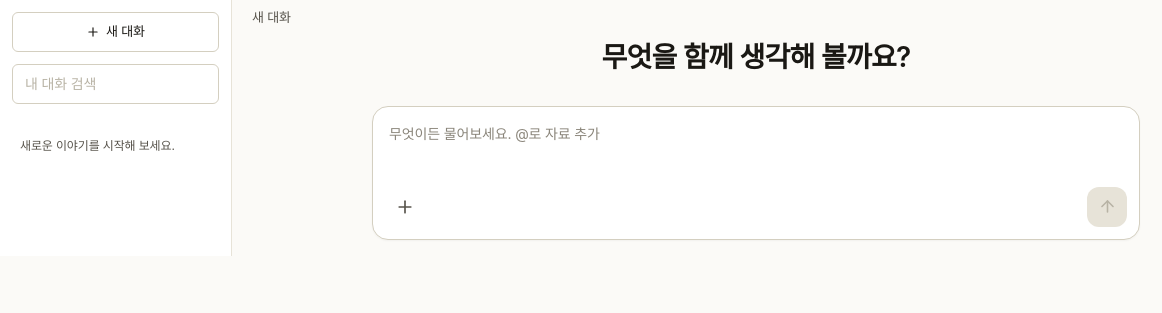
Test: 자유 채팅 입력창 › 자료 선택 후 사용자가 선택한 남은 문장을 늦은 프레임이 덮지 않는다
Type "앞 문장 @첫 번째" into the text box named "연구 질문" at coordinates (756, 150), box left=385, top=118, right=1127, bottom=182
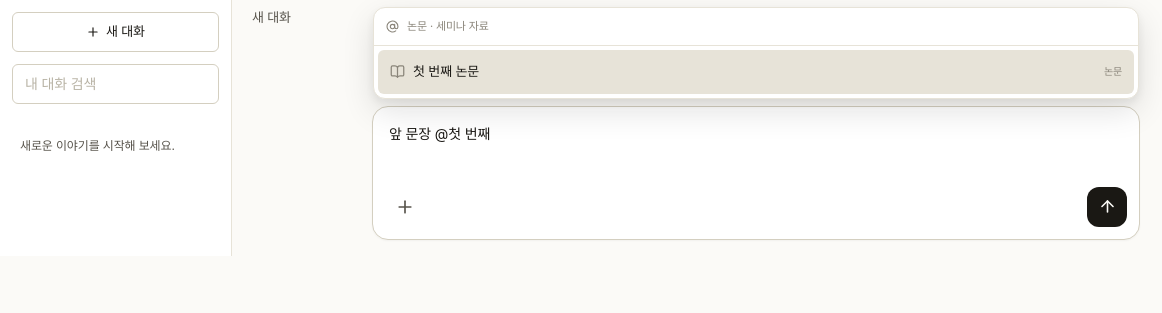
Click the option "첫 번째 논문 논문" at coordinates (446, 71), box left=378, top=50, right=1134, bottom=94
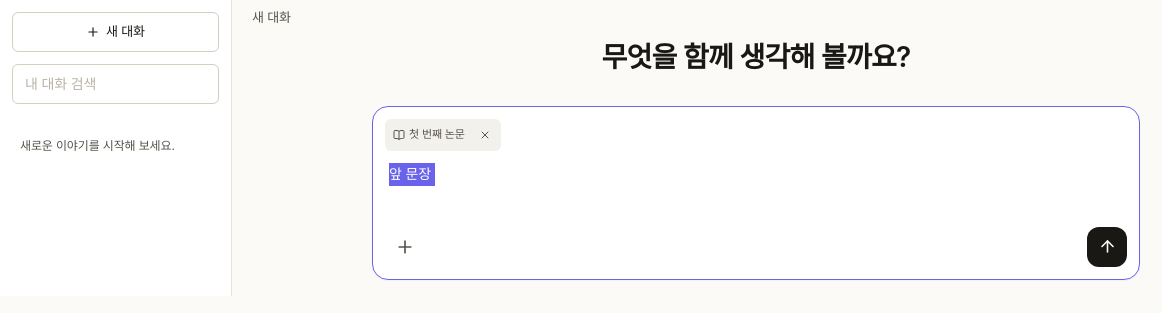
Expected: the text box named "연구 질문" holds "앞 문장 ", left=385, top=158, right=1127, bottom=222
